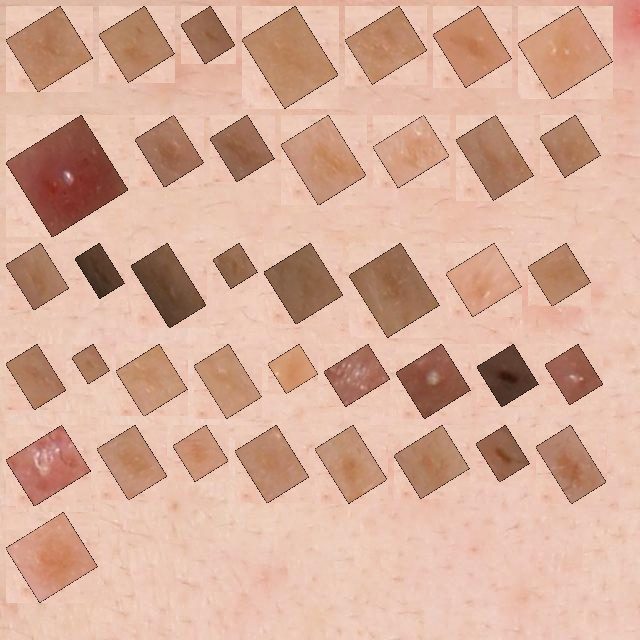hypertrophic_scar: (335, 355, 379, 395)
melasma: (253, 17, 327, 97), (529, 17, 602, 88), (360, 254, 428, 326), (17, 523, 87, 591), (292, 126, 355, 194), (17, 17, 82, 81), (467, 126, 522, 189), (444, 17, 501, 76), (275, 254, 332, 313), (356, 17, 416, 73), (142, 254, 195, 317), (246, 436, 298, 492), (110, 17, 163, 71), (326, 436, 376, 492), (547, 436, 595, 493), (457, 254, 510, 305), (405, 436, 458, 487), (384, 126, 438, 176), (108, 436, 156, 489), (127, 355, 176, 405), (205, 355, 251, 407), (146, 126, 193, 176), (221, 126, 263, 171), (17, 254, 58, 299), (539, 254, 580, 295), (17, 355, 55, 398), (551, 126, 590, 166), (192, 17, 224, 53), (184, 436, 217, 470), (86, 254, 113, 287), (279, 355, 307, 382), (224, 254, 246, 277), (83, 355, 99, 373)
nevus: (488, 355, 527, 396)
pustule: (17, 126, 117, 226), (17, 436, 80, 495), (407, 355, 459, 407), (556, 355, 592, 394)
